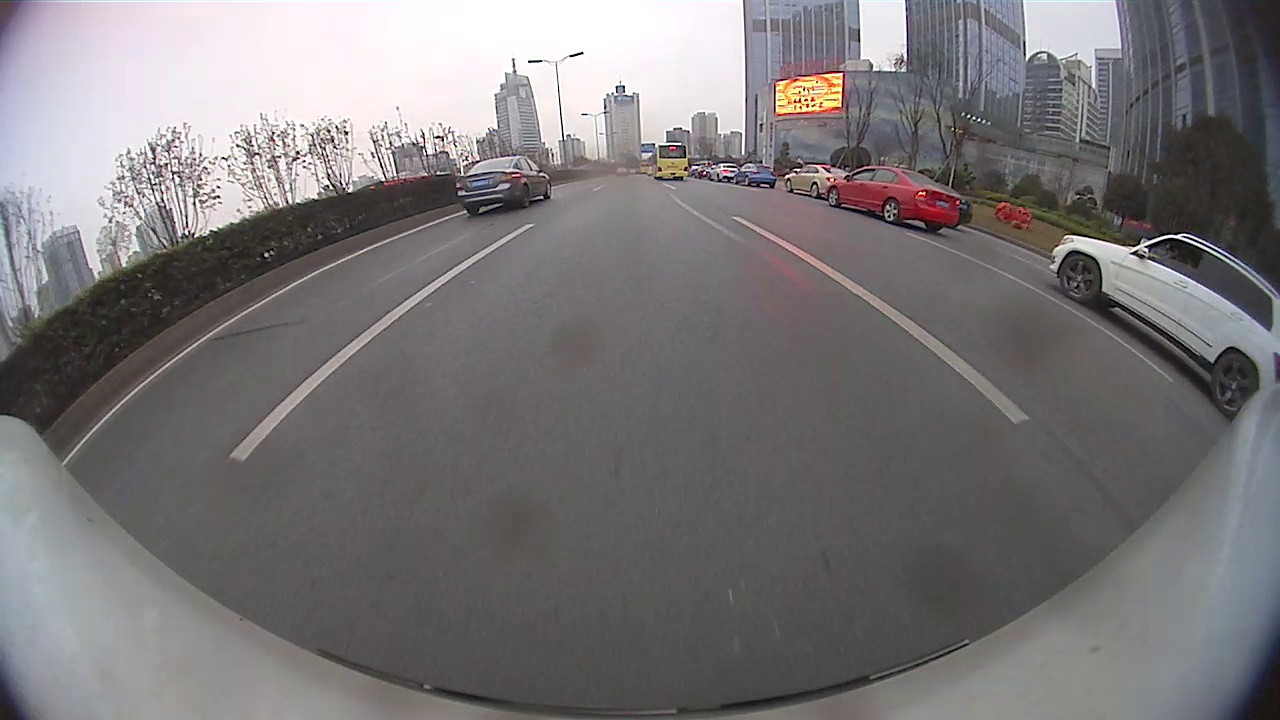bus: (648, 139, 691, 182)
car: (1048, 227, 1279, 428), (823, 161, 965, 235), (452, 152, 557, 220), (783, 161, 851, 201), (732, 160, 778, 190), (706, 160, 740, 184), (955, 195, 975, 228)
front: (1059, 255, 1103, 306), (826, 189, 840, 209), (810, 183, 820, 199), (548, 181, 553, 199)
rear: (1211, 354, 1260, 417), (882, 199, 902, 225), (522, 185, 532, 209)
